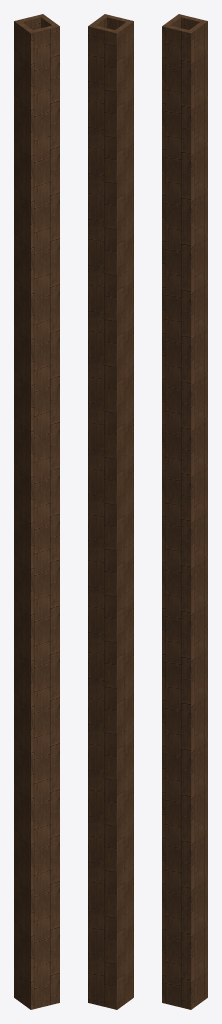
The model's file is fall.obj.
3 renders of one model, left to right at view 1: azimuth 30°, elevation 25°; view 2: azimuth 150°, elevation 25°; view 3: azimuth 330°, elevation 25°, orthographic.
Visible parts, largest first — view 1: Cube_Cube_Material_Miniroom_floor01.jpg; view 2: Cube_Cube_Material_Miniroom_floor01.jpg; view 3: Cube_Cube_Material_Miniroom_floor01.jpg.
Boxes of the visible parts, x1,y1,x2,y2 form: Cube_Cube_Material_Miniroom_floor01.jpg: [14, 14, 59, 1009]; Cube_Cube_Material_Miniroom_floor01.jpg: [88, 14, 133, 1009]; Cube_Cube_Material_Miniroom_floor01.jpg: [162, 14, 207, 1009].
Size of the model in its own units: 16 by 512 by 16.
Materials: 1 (1 with a texture image).
